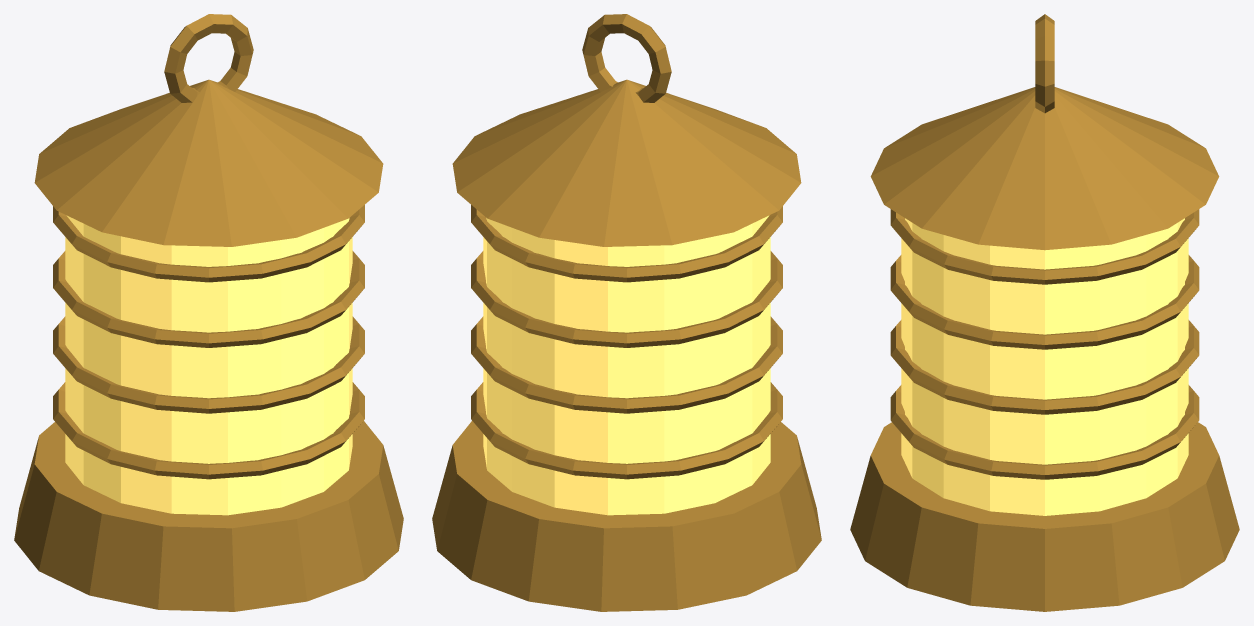
Rendered from lighthouse_lamp.glb.
3 views of the same model, side by side, from view 1: azimuth 30°, elevation 25°; view 2: azimuth 150°, elevation 25°; view 3: azimuth 270°, elevation 25° (orthographic).
Parts seen in each view (by area): view 1: lens_lamp_glass, cap_lamp_brass, base_lamp_brass, lens_lamp_brass; view 2: lens_lamp_glass, cap_lamp_brass, base_lamp_brass, lens_lamp_brass; view 3: lens_lamp_glass, cap_lamp_brass, base_lamp_brass, lens_lamp_brass.
Boxes of the visible parts, bbox=[...] form: lens_lamp_glass: bbox=[65, 215, 352, 515]; cap_lamp_brass: bbox=[34, 14, 383, 246]; base_lamp_brass: bbox=[14, 421, 403, 611]; lens_lamp_brass: bbox=[53, 205, 364, 479]; lens_lamp_glass: bbox=[483, 215, 770, 515]; cap_lamp_brass: bbox=[452, 14, 801, 246]; base_lamp_brass: bbox=[432, 421, 821, 611]; lens_lamp_brass: bbox=[471, 205, 782, 479]; lens_lamp_glass: bbox=[901, 218, 1188, 515]; cap_lamp_brass: bbox=[870, 14, 1219, 250]; base_lamp_brass: bbox=[850, 422, 1239, 611]; lens_lamp_brass: bbox=[890, 209, 1199, 479].
Bounding box in the file's own units: 0.38 × 0.55 × 0.38.
